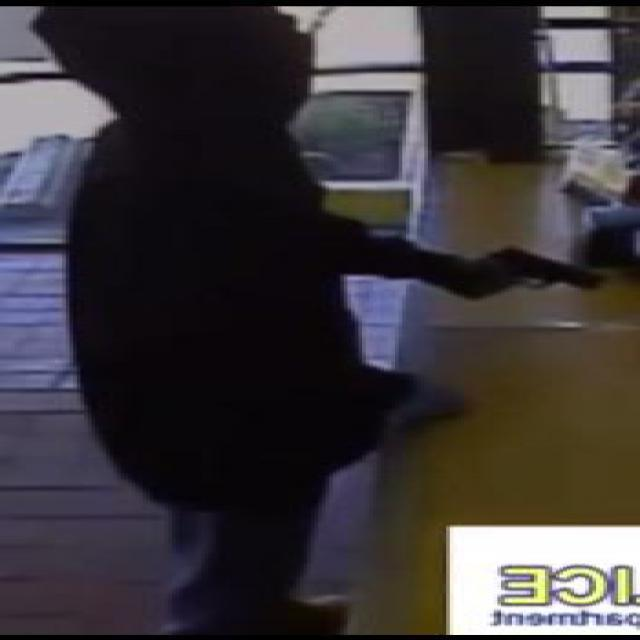Gun: (450, 245, 611, 298)
